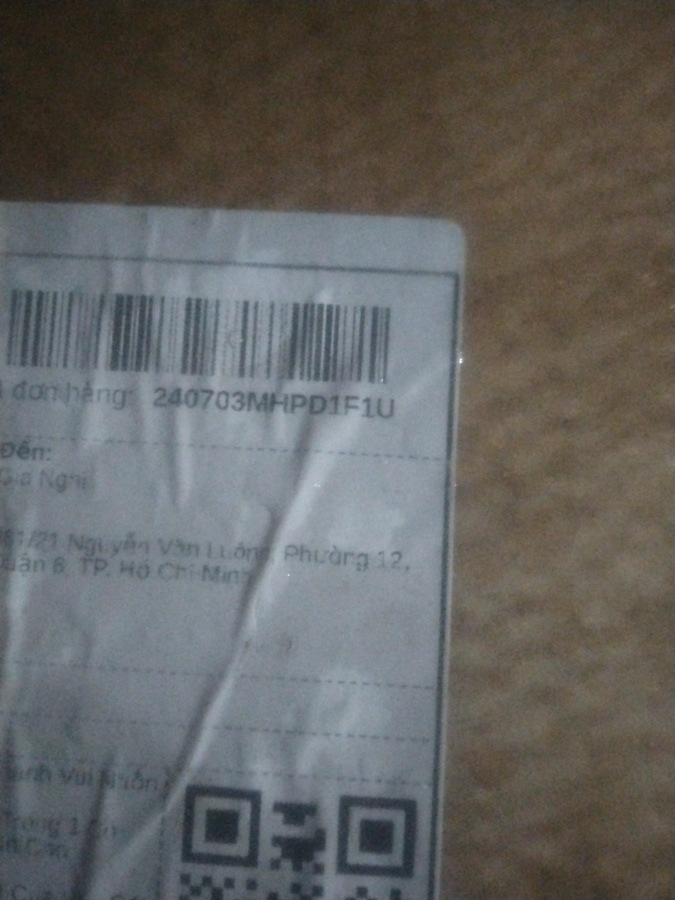pod: (5, 179, 440, 890)
